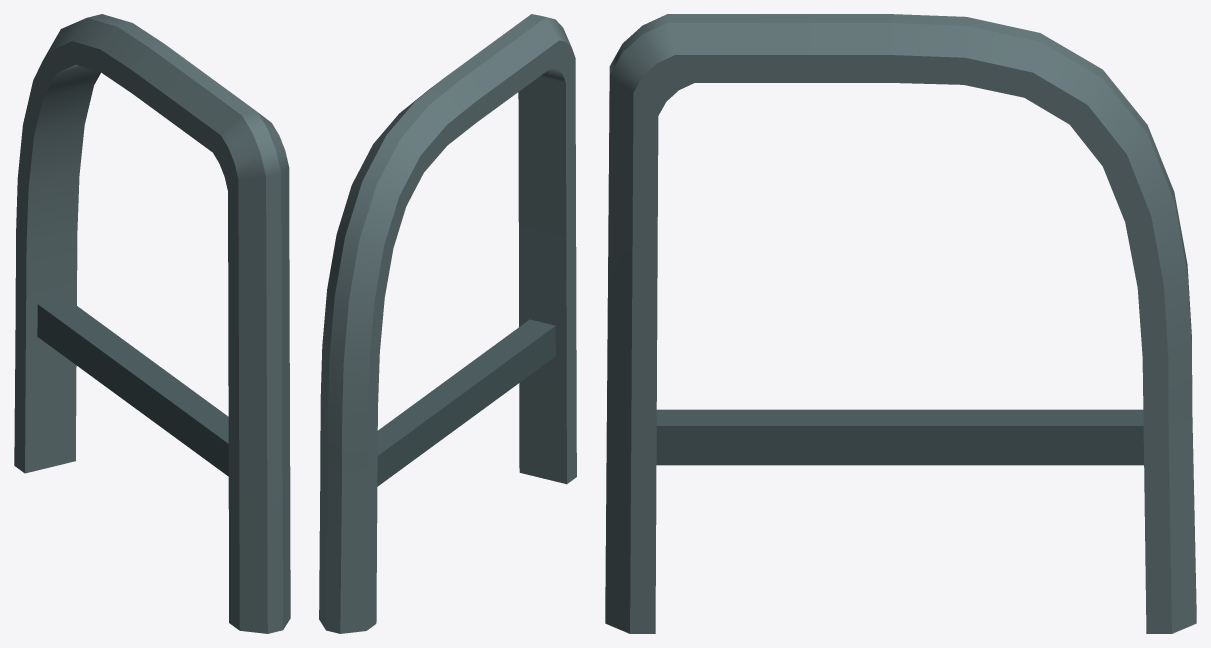
Rendered from SM_Barrierre_Curve.fbx.
3 renders of one model, left to right at view 1: azimuth 30°, elevation 25°; view 2: azimuth 150°, elevation 25°; view 3: azimuth 270°, elevation 25°, orthographic. The views are drawn at different scales.
Parts seen in each view (by area): view 1: SM_Barrierre_Curve; view 2: SM_Barrierre_Curve; view 3: SM_Barrierre_Curve.
Boxes of the visible parts, x1=… form: SM_Barrierre_Curve: x1=14, y1=14, x2=290, y2=633; SM_Barrierre_Curve: x1=319, y1=14, x2=576, y2=633; SM_Barrierre_Curve: x1=605, y1=14, x2=1196, y2=633.
Bounding box in the file's own units: 10.19 × 95.64 × 85.36.
1 material, 1 textured.
